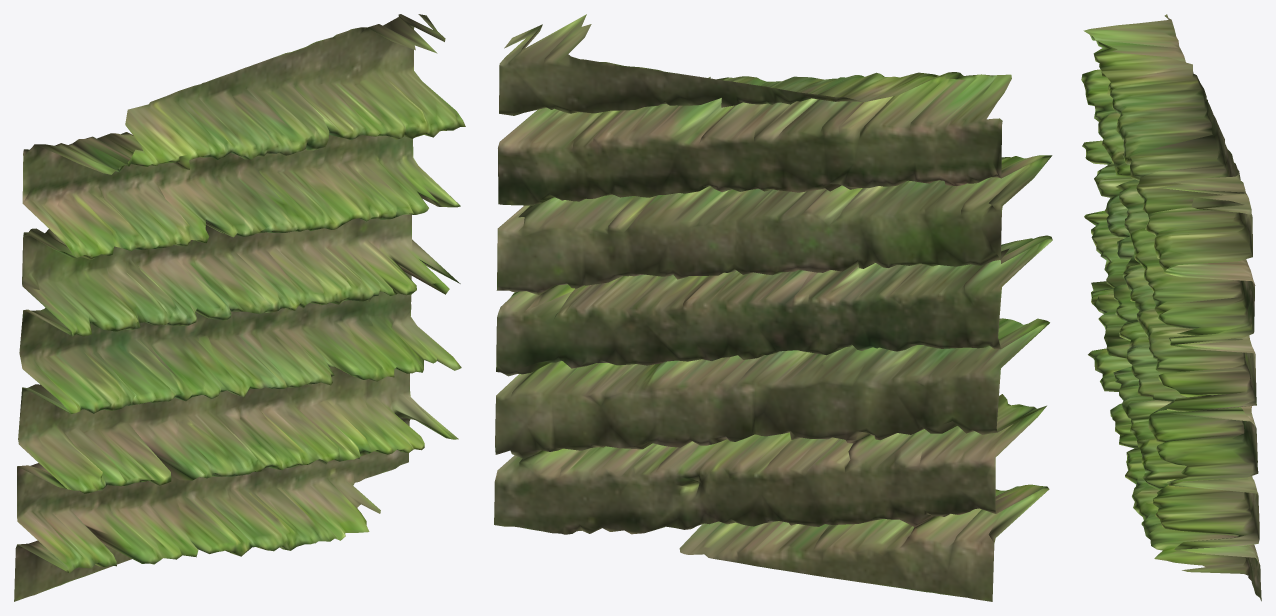
Rendered from map_100_0.obj.
The picture shows the model from 3 angles, left to right: view 1: azimuth 30°, elevation 25°; view 2: azimuth 150°, elevation 25°; view 3: azimuth 270°, elevation 25°; orthographic projection. The views are drawn at different scales.
Visible parts, largest first — view 1: map_100_0.obj; view 2: map_100_0.obj; view 3: map_100_0.obj.
Boxes of the visible parts, <box> form: map_100_0.obj: <box>14,14,465,601</box>; map_100_0.obj: <box>494,14,1052,601</box>; map_100_0.obj: <box>1081,14,1261,601</box>.
Size of the model in its own units: 10 by 10 by 4.08.
1 material, 1 textured.
